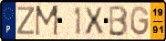1: (73, 5, 82, 37)
B: (108, 5, 129, 38)
G: (129, 5, 150, 37)
M: (34, 5, 61, 38)
X: (83, 6, 106, 36)
Z: (16, 6, 36, 36)
